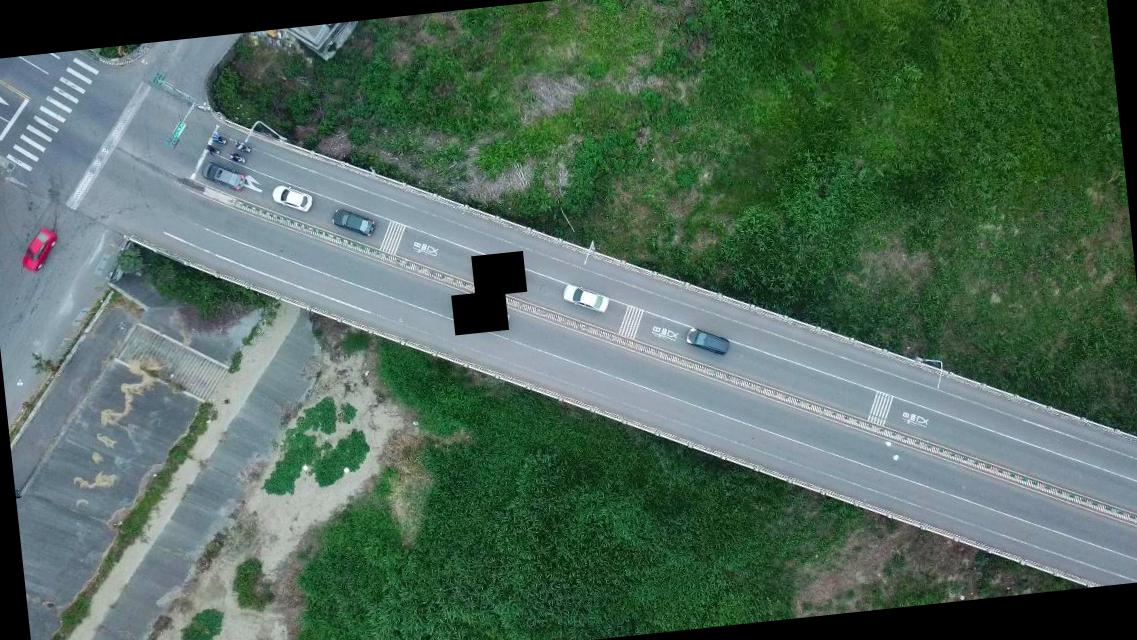vehicle: (15, 225, 62, 276), (558, 278, 612, 320), (684, 321, 731, 359), (330, 203, 378, 240), (200, 156, 246, 193), (271, 180, 314, 213)
